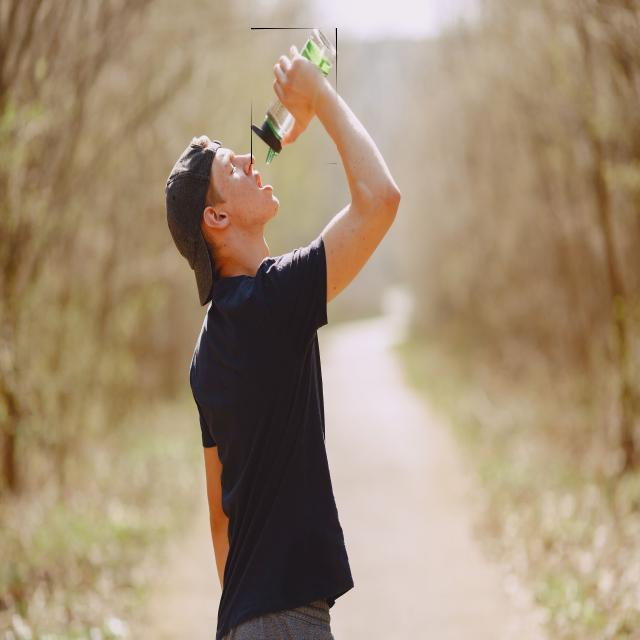Bottle: (251, 97, 294, 163)
